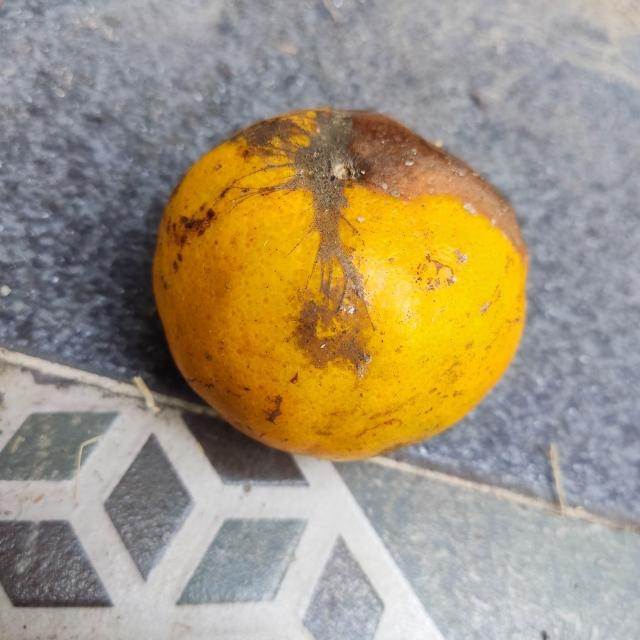agrume: (147, 105, 529, 460)
